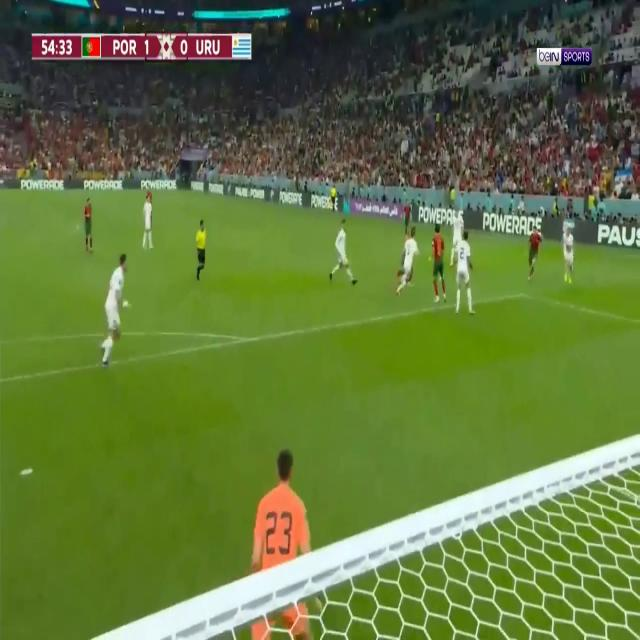GoalKeeper: (248, 446, 324, 640)
Referee: (195, 218, 209, 284), (330, 183, 338, 213)
TEAM 1: (427, 222, 447, 303), (527, 226, 542, 282), (82, 195, 96, 253), (397, 228, 410, 279), (403, 198, 412, 236), (145, 186, 152, 204)
TEAM 2: (101, 250, 132, 370), (328, 217, 359, 287), (452, 230, 473, 318), (396, 230, 420, 298), (450, 206, 466, 267), (561, 225, 575, 284), (142, 195, 152, 252)
